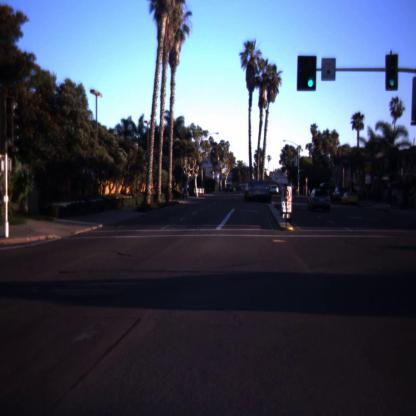trafficlight: (297, 53, 316, 92), (386, 53, 399, 91)
